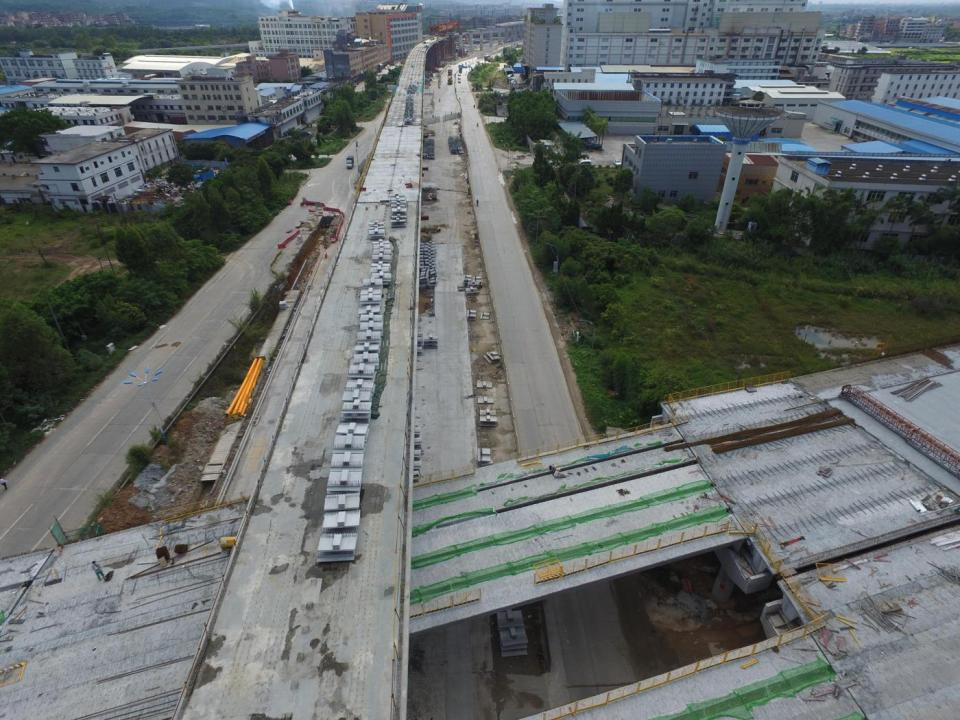car: (613, 159, 623, 168), (583, 138, 594, 144), (586, 142, 596, 148)
truck: (220, 537, 271, 555), (193, 169, 214, 183), (346, 155, 353, 168), (447, 68, 452, 76)
van: (576, 160, 590, 167), (588, 145, 602, 151)
